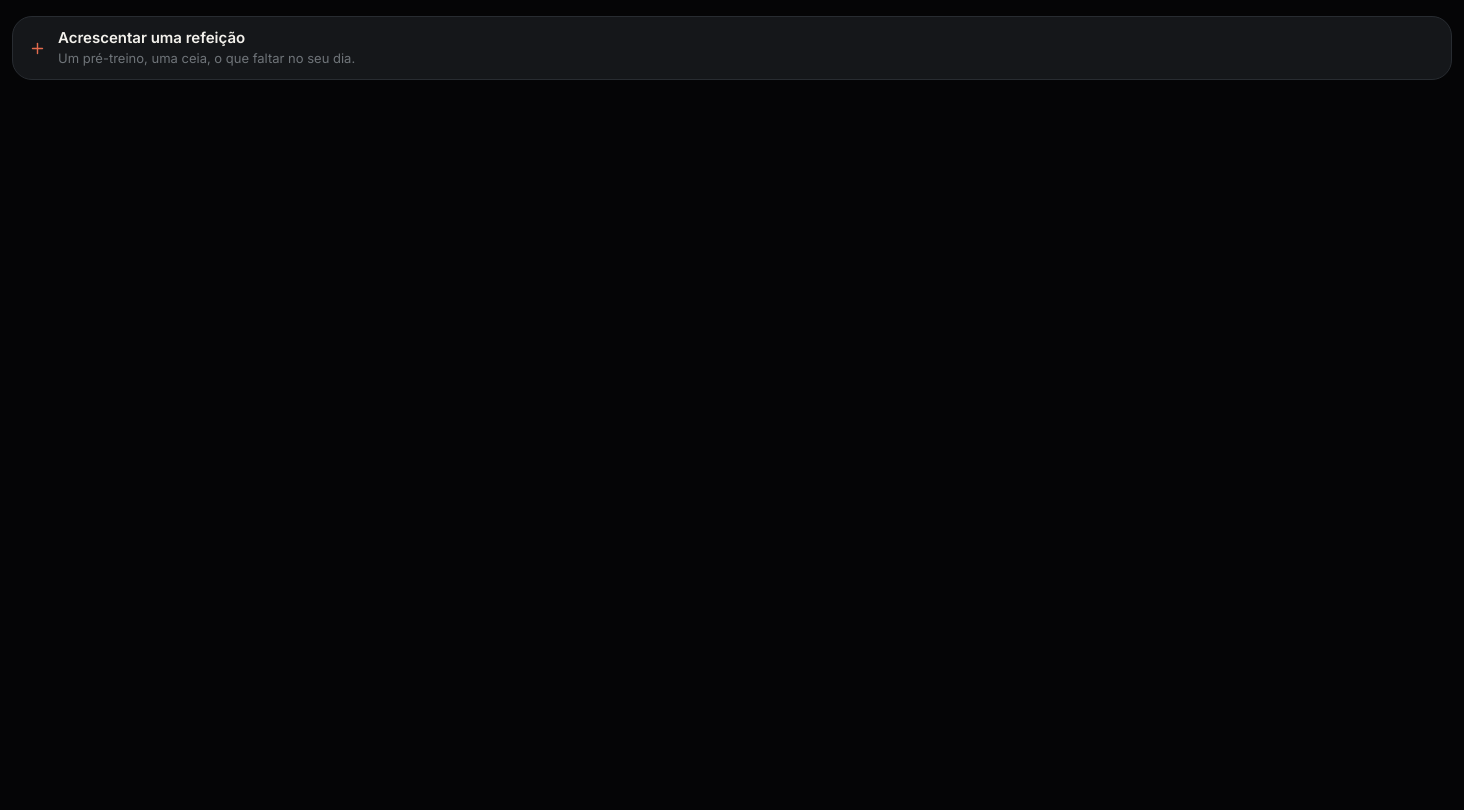
Test: a sugestao preenche o nome
Click the button with test id "abrir-acrescentar" at (152, 38), box [13, 17, 1451, 79]
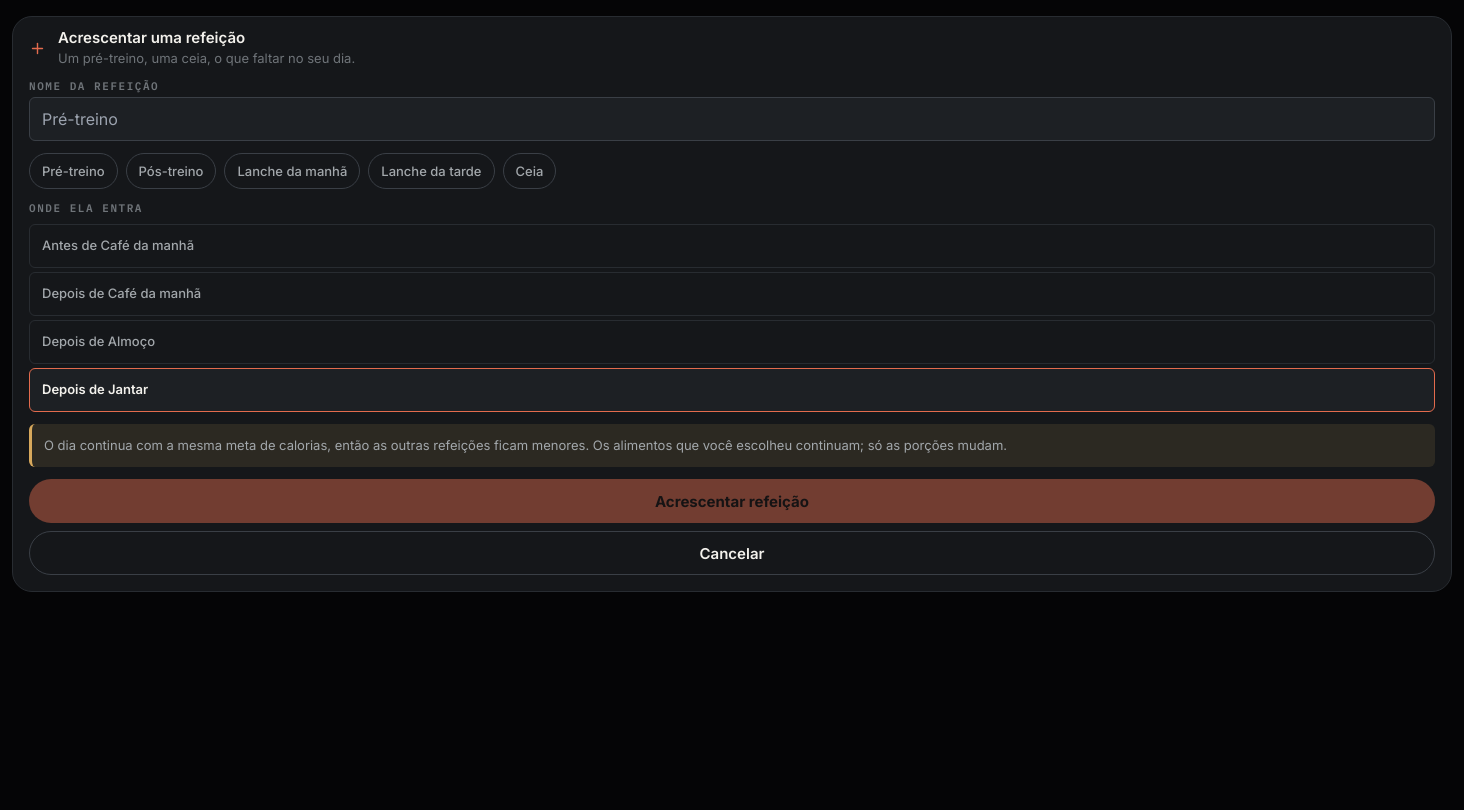
Click the button with test id "sugestao-Pré-treino" at (73, 172), box [29, 154, 118, 190]
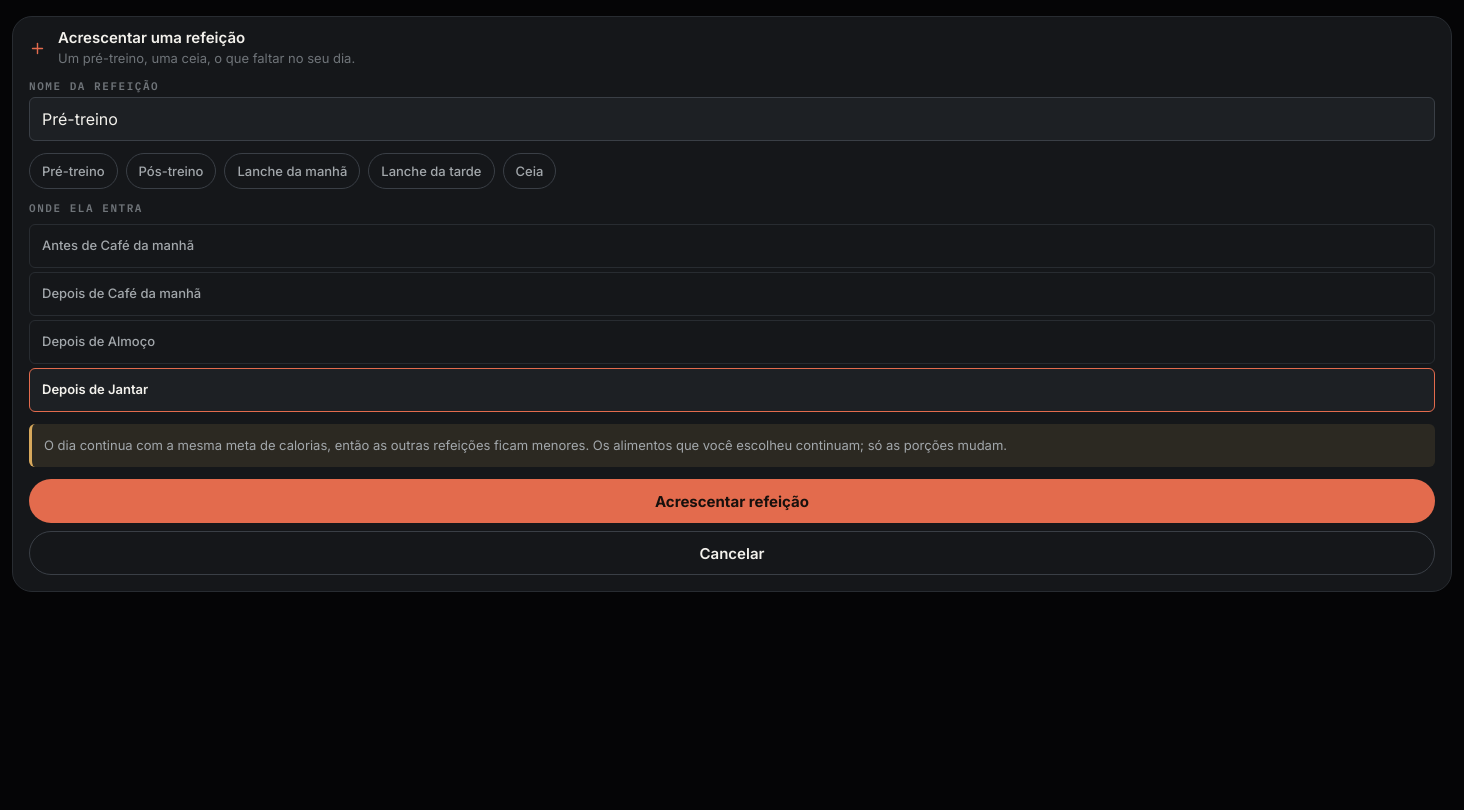
Result: the field with test id "nome-da-refeicao" holds "Pré-treino" at [29, 98, 1435, 142]
